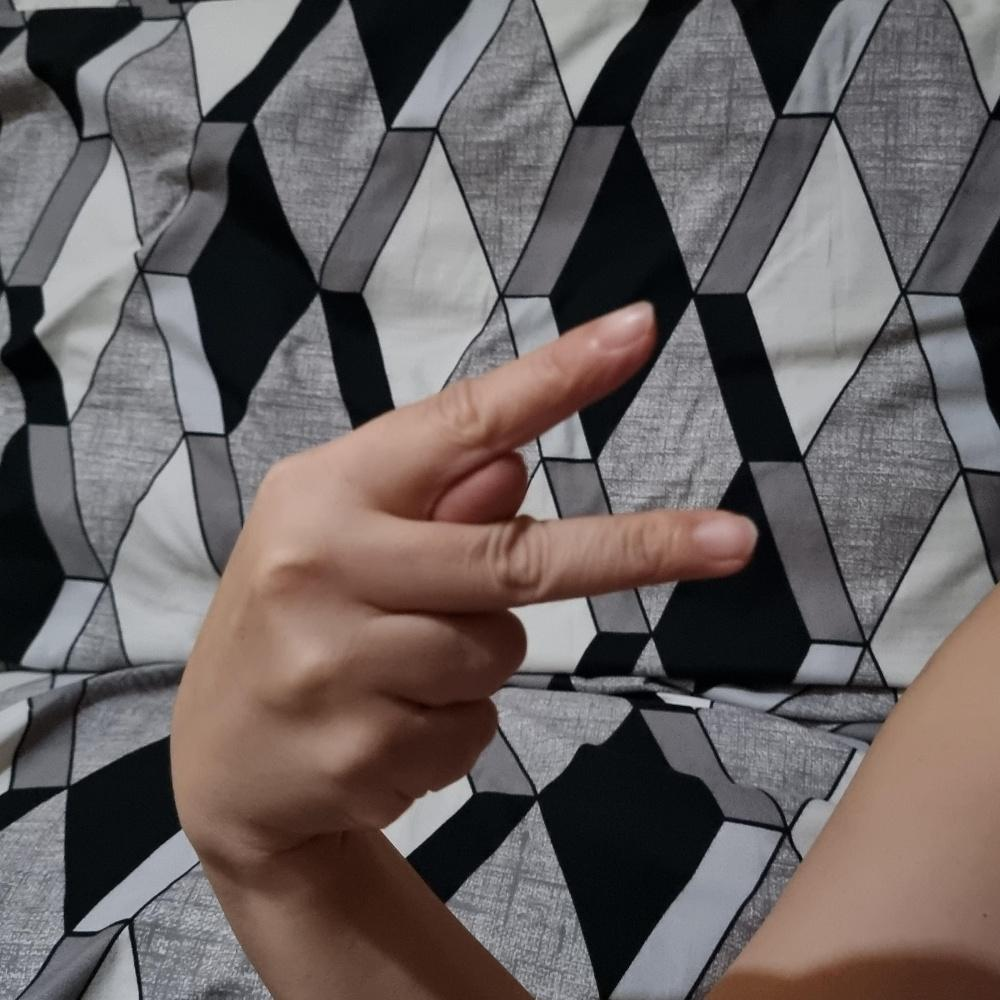k: (164, 296, 759, 841)
